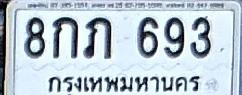3: (190, 16, 211, 58)
6: (137, 15, 158, 58)
8: (24, 16, 45, 58)
9: (164, 16, 184, 58)
A01: (52, 15, 78, 58)
A32: (83, 16, 112, 58)
BKK: (44, 73, 201, 95)
